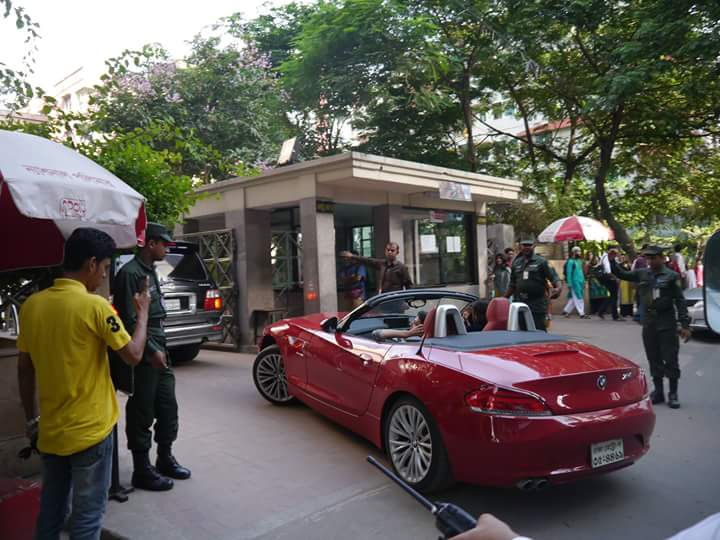registration_plate: (590, 437, 624, 469)
